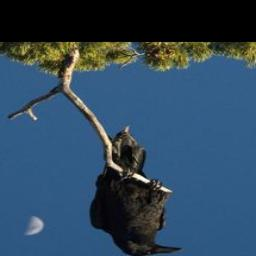Crow: (88, 124, 185, 256)
